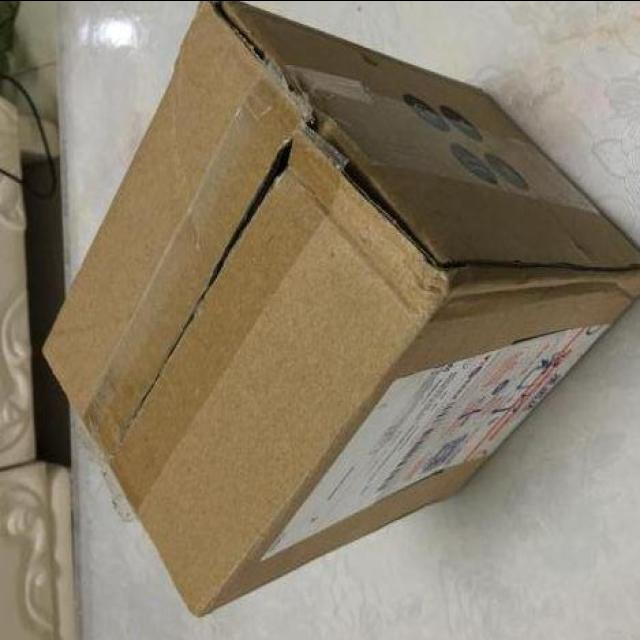-Recyclables - paper box-: (40, 0, 640, 620)
